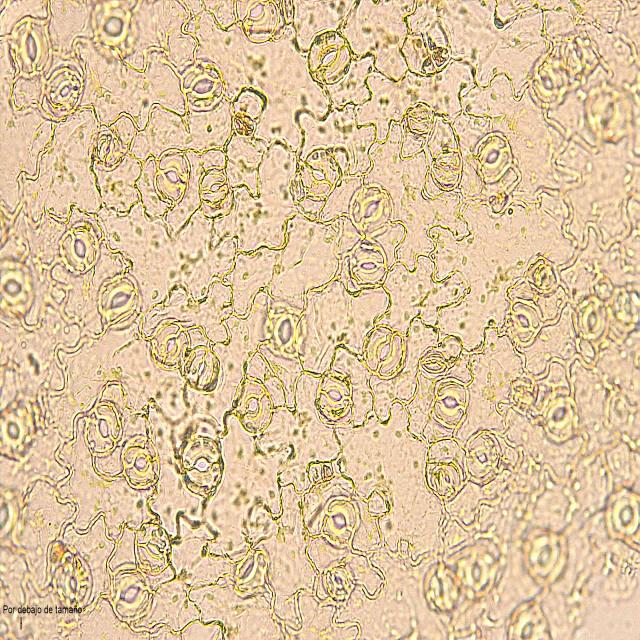Stomata: (86, 0, 144, 67), (584, 75, 634, 149), (35, 59, 90, 126), (258, 297, 312, 365), (517, 523, 572, 589), (105, 561, 158, 624), (222, 538, 274, 602), (94, 267, 144, 332), (177, 434, 226, 499), (177, 54, 228, 116), (346, 178, 396, 240), (6, 15, 52, 82), (304, 28, 354, 89), (232, 371, 276, 439), (118, 429, 164, 494), (461, 425, 505, 491), (361, 321, 407, 383), (317, 492, 366, 550), (130, 518, 178, 576), (148, 315, 193, 376), (526, 50, 570, 112), (298, 144, 344, 203), (82, 397, 125, 460), (419, 559, 464, 618), (428, 374, 472, 434), (455, 543, 498, 604), (0, 401, 41, 463), (56, 220, 103, 274), (0, 256, 37, 324), (51, 550, 94, 608), (178, 342, 224, 396), (150, 146, 192, 204), (314, 367, 356, 424), (502, 295, 546, 349), (602, 484, 640, 546), (231, 0, 280, 48), (473, 130, 515, 185), (569, 292, 610, 348), (540, 393, 582, 447), (504, 595, 554, 640), (348, 240, 392, 289), (317, 557, 363, 603), (0, 482, 28, 556), (90, 126, 126, 172), (196, 166, 233, 209), (402, 100, 438, 137), (431, 149, 464, 186), (436, 463, 462, 497)
